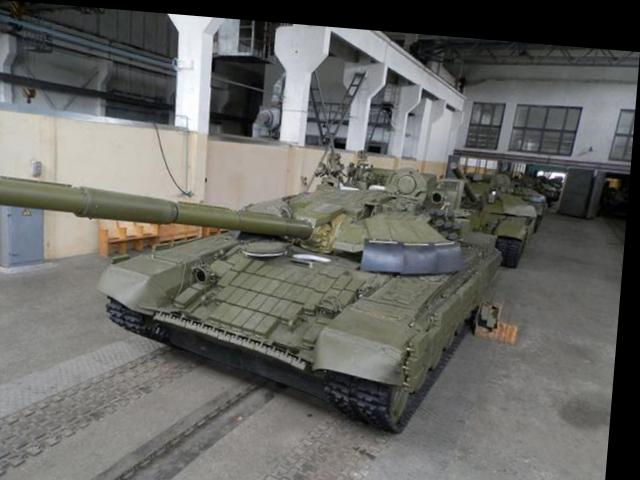tank: (93, 158, 510, 397), (455, 166, 536, 251)
